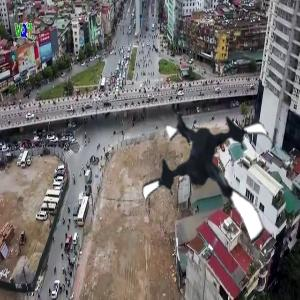drone: (135, 102, 291, 258)
